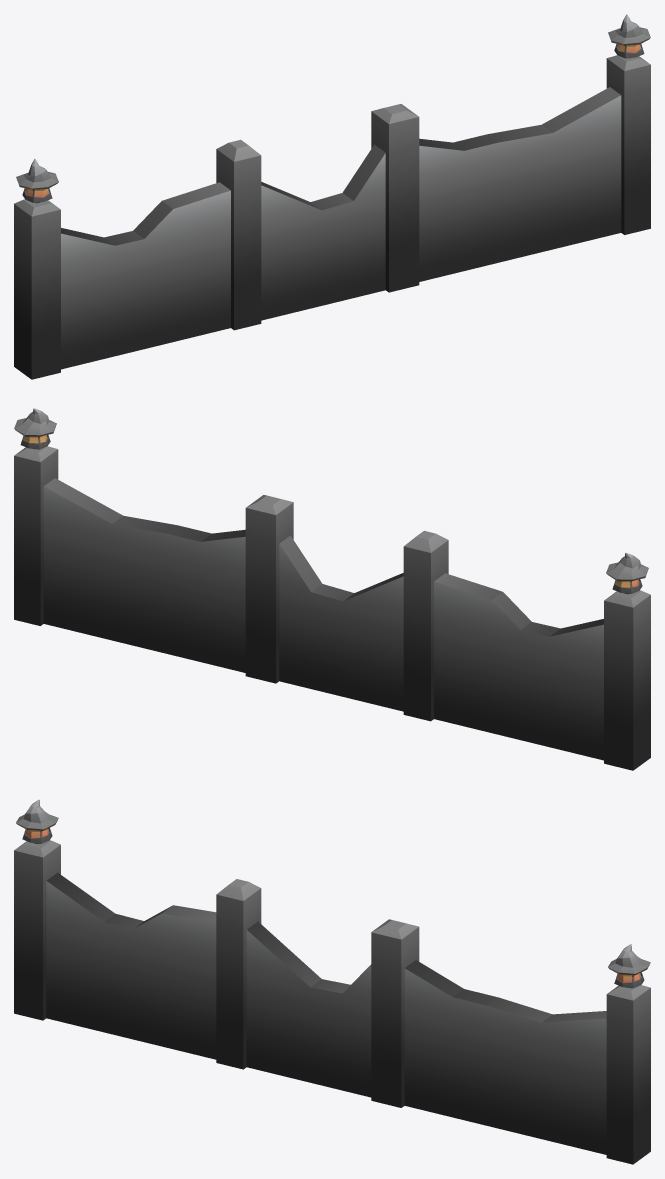
Rendered from W3_FENCE.fbx.
The picture shows the model from 3 angles, top to bottom: view 1: azimuth 30°, elevation 25°; view 2: azimuth 150°, elevation 25°; view 3: azimuth 330°, elevation 25°; orthographic projection.
Parts seen in each view (by area): view 1: W3_FENCE; view 2: W3_FENCE; view 3: W3_FENCE.
Boxes of the visible parts, x1,y1,x2,y2 form: W3_FENCE: [14, 14, 650, 379]; W3_FENCE: [14, 408, 650, 770]; W3_FENCE: [14, 799, 650, 1164].
Bounding box in the file's own units: 956 × 305 × 55.25.
